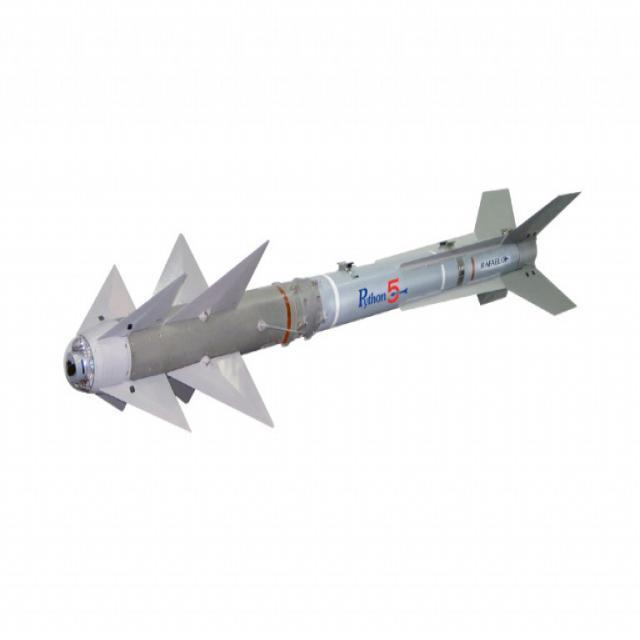missile: (69, 184, 584, 433)
